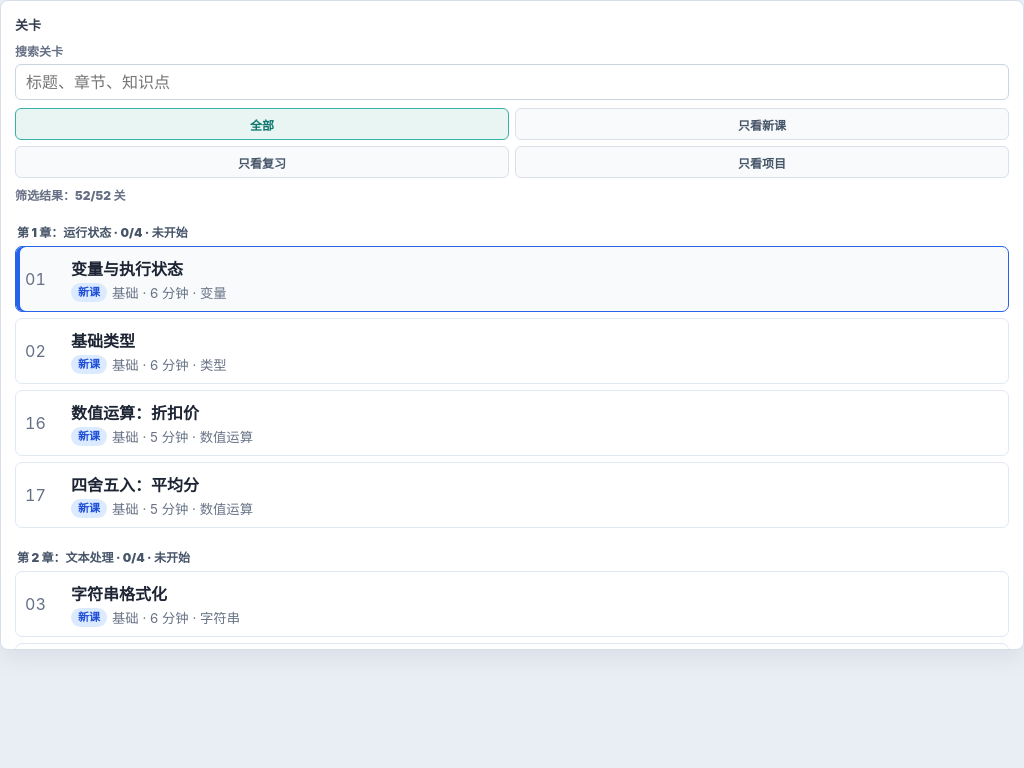
it: LevelList › filters levels by search keyword
Type "库存" into the search field labelled "搜索关卡".
click(512, 82); type("库存")  # box [15,64,1009,100]
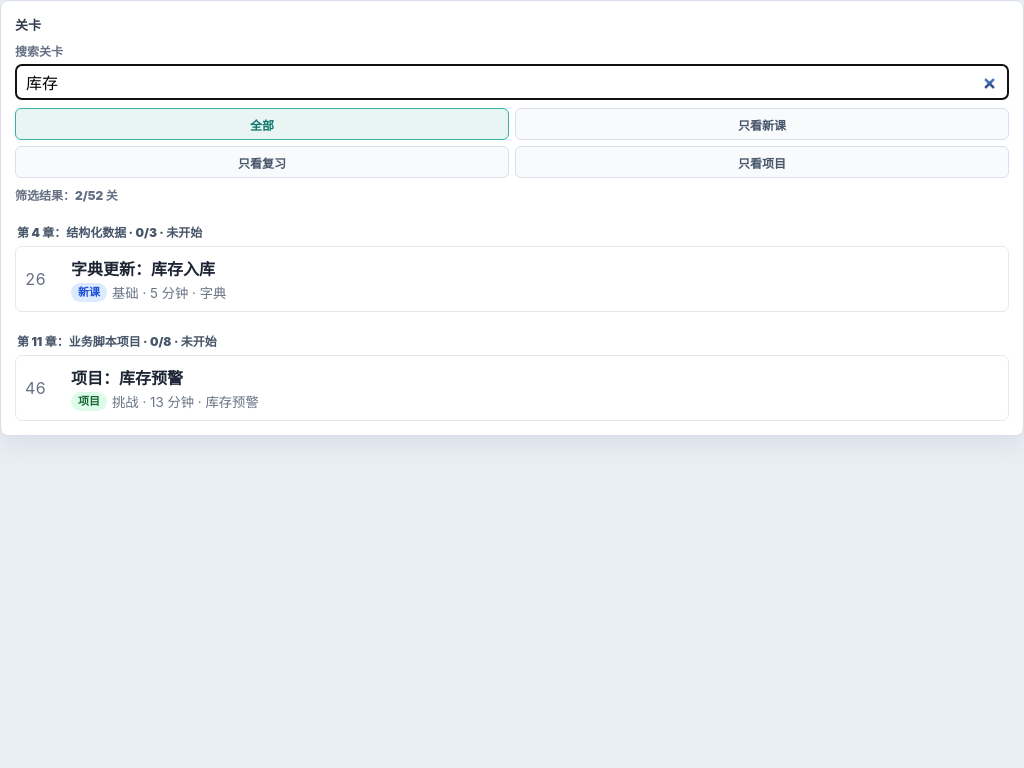
Now the button "26 字典更新：库存入库 新课 基础 · 5 分钟 · 字典" is shown, box [15,246,1009,312]
Now the button "46 项目：库存预警 项目 挑战 · 13 分钟 · 库存预警" is shown, box [15,355,1009,421]
Now the button "变量与执行状态" is gone
